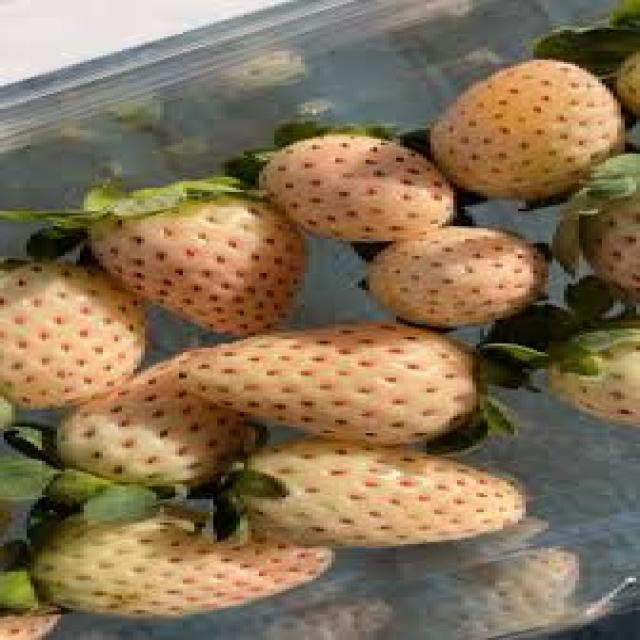strawberry: (182, 322, 478, 443), (31, 510, 338, 622), (236, 438, 526, 548), (94, 196, 306, 334), (433, 60, 623, 193), (0, 260, 147, 406), (266, 134, 450, 238)
